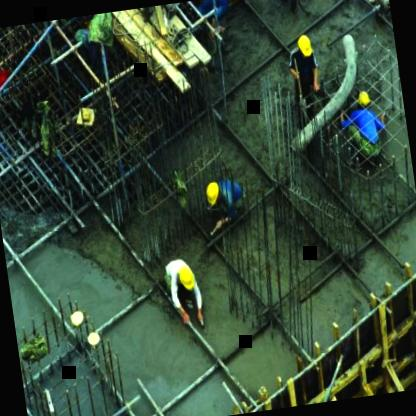helmet: (202, 176, 223, 207), (294, 32, 315, 62), (178, 266, 197, 292), (356, 89, 374, 110)
